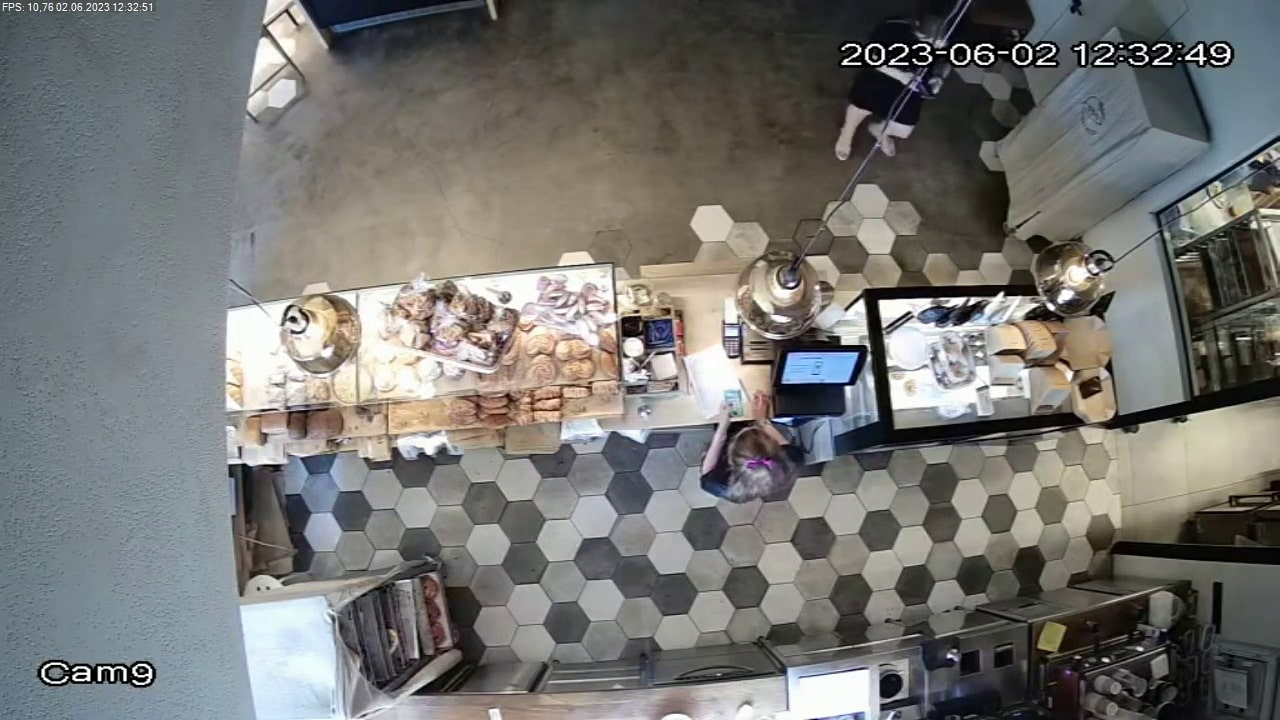barcounter: (230, 301, 1128, 454)
person: (694, 383, 818, 501)
